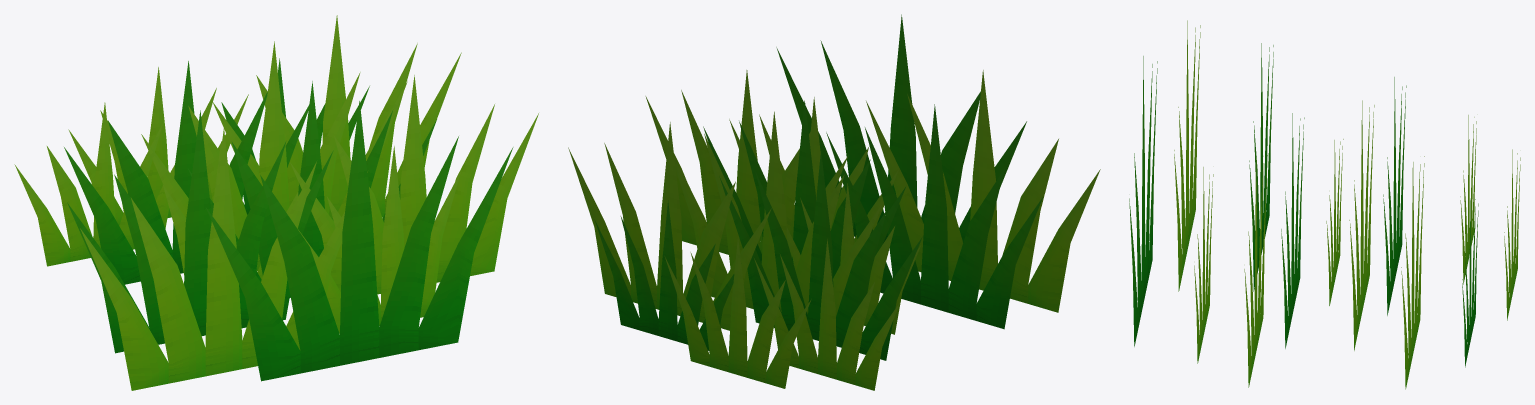
Rendered from Grass.FBX.
3 views of the same model, side by side, from view 1: azimuth 30°, elevation 25°; view 2: azimuth 150°, elevation 25°; view 3: azimuth 270°, elevation 25° (orthographic). The views are drawn at different scales.
Visible parts, largest first — view 1: Grass; view 2: Grass; view 3: Grass.
Part boxes in pixels (box(x1,y1,x2,y2)): Grass: box(14, 15, 538, 390); Grass: box(568, 14, 1100, 390); Grass: box(1129, 20, 1520, 389).
Size of the model in its own units: 1.46 by 0.7498 by 1.05.
